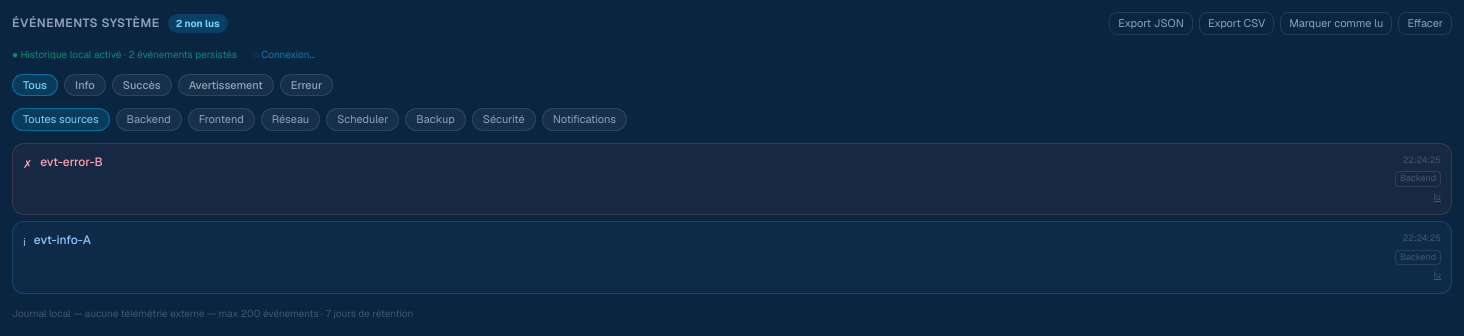
Test: SystemEventsPanel — filtrage › filtre par severity error — seuls les événements error sont affichés
Expected: the text "evt-error-B" is shown, [40,154,103,170]
What coordinates should you click on to do the following:
click the button "Erreur"
I would click on:
 (307, 85)
Its box is [280,74,333,96].
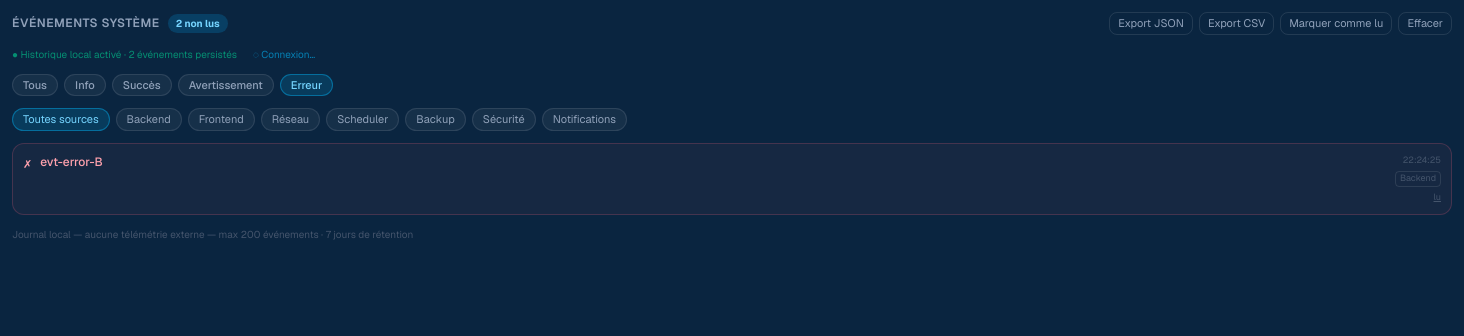
Expected: the text "evt-error-B" is shown, [40,154,103,170]
Now the text "evt-info-A" is gone
